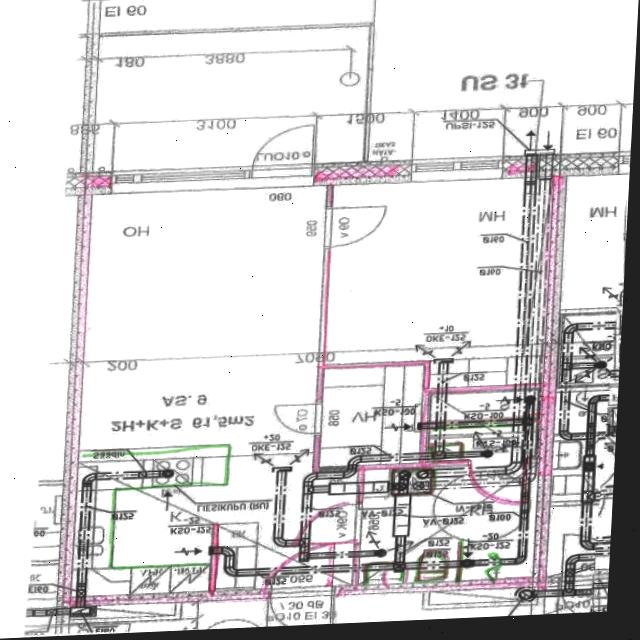room: (353, 462, 545, 585), (320, 362, 423, 471), (423, 390, 544, 463)
